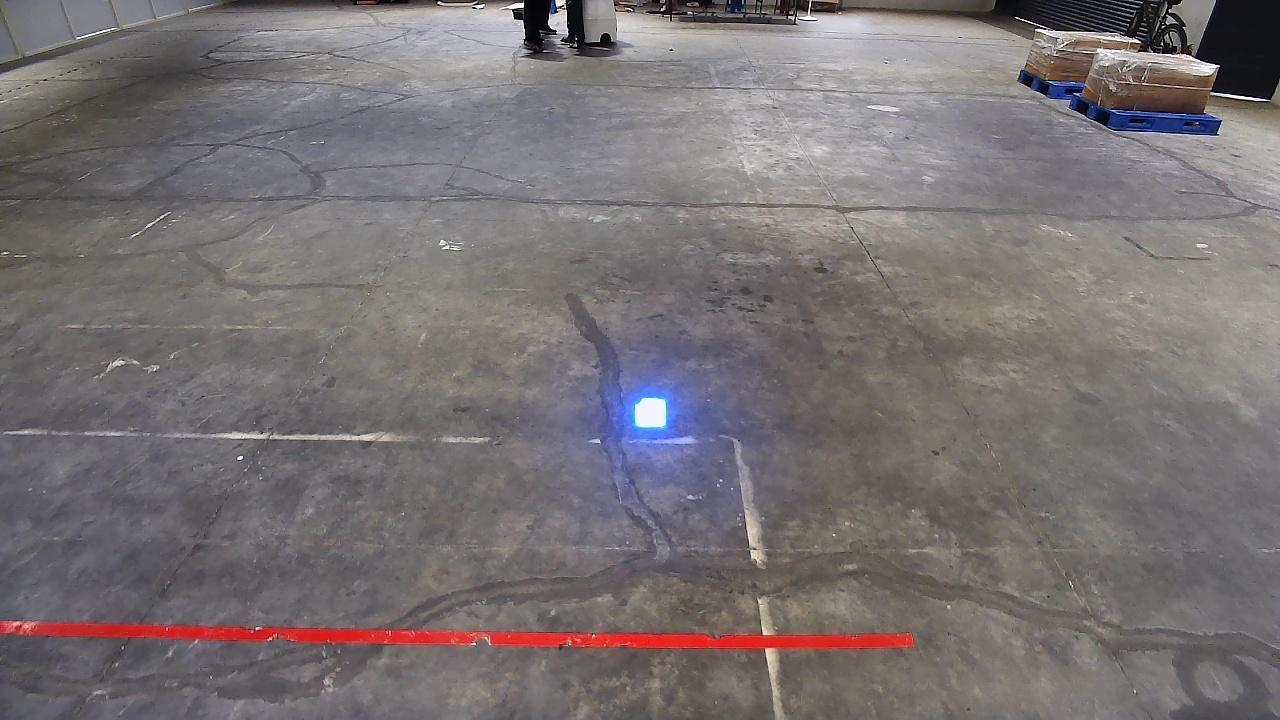red_line: (1, 620, 919, 646)
